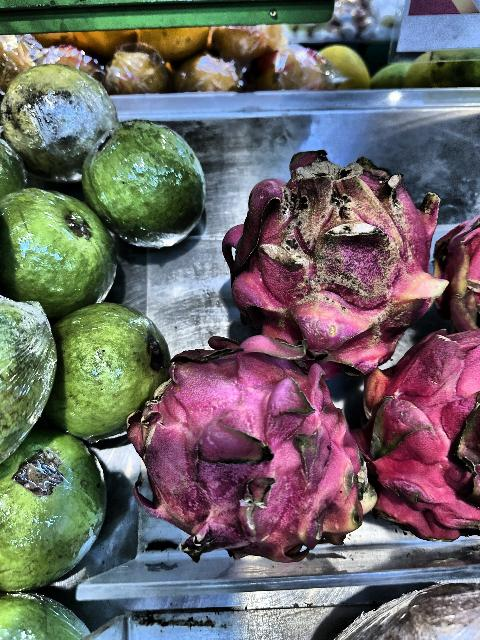buah-naga-matang: (130, 338, 370, 576), (212, 150, 450, 354), (358, 330, 480, 540)
